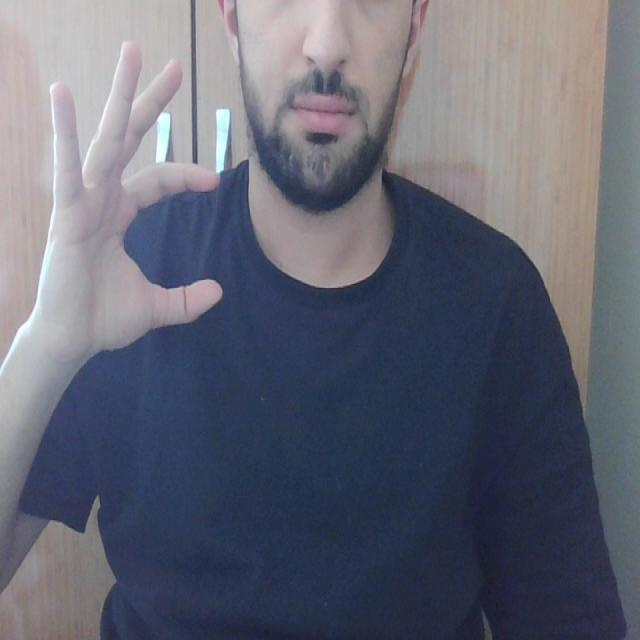Tuvalet: (20, 29, 262, 367)
